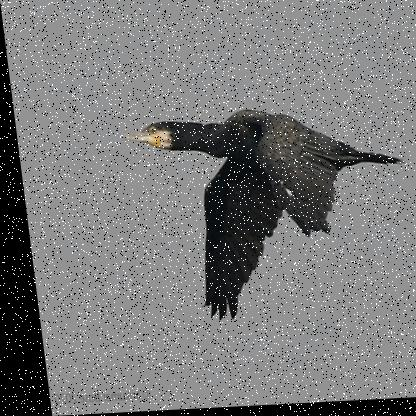Burung: (115, 107, 416, 324)
